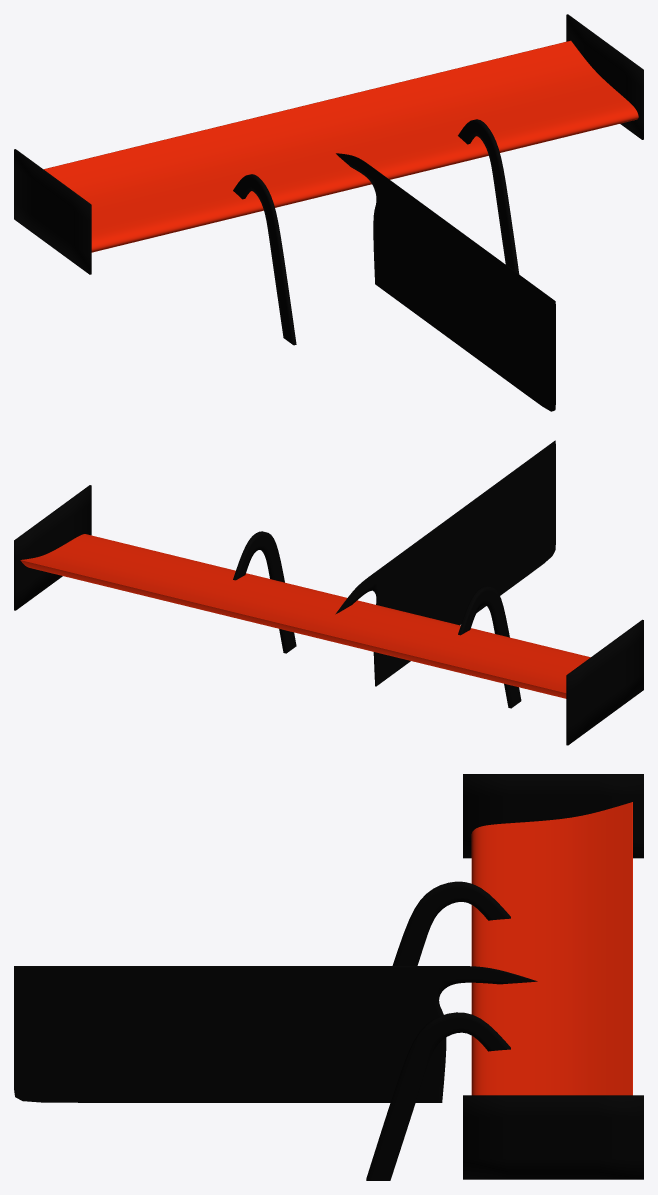
The picture shows the model from 3 angles, top to bottom: view 1: azimuth 30°, elevation 25°; view 2: azimuth 150°, elevation 25°; view 3: azimuth 270°, elevation 25°; orthographic projection. The views are drawn at different scales.
Parts seen in each view (by area): view 1: RW1; view 2: RW1; view 3: RW1.
Boxes of the visible parts, x1,y1,x2,y2 form: RW1: (14,14,643,411); RW1: (14,440,643,745); RW1: (14,774,643,1180).
Bounding box in the file's own units: 2.43 × 0.6306 × 2.01.
